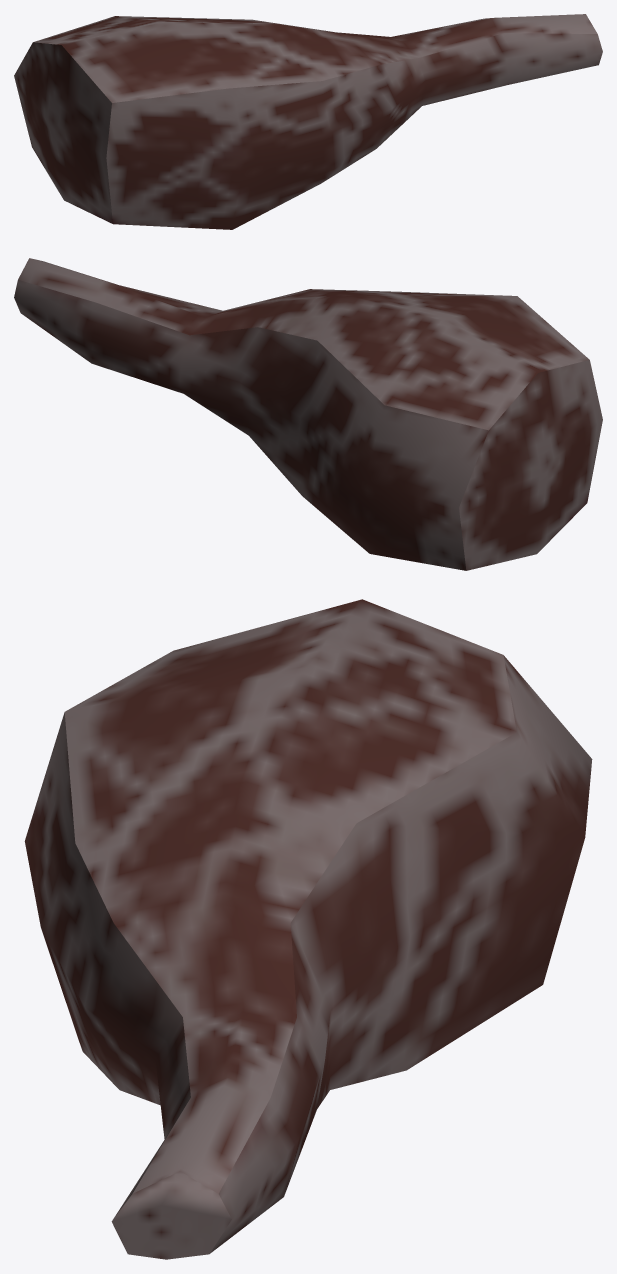
File: beefMeat.fbx
The picture shows the model from 3 angles, top to bottom: view 1: azimuth 30°, elevation 25°; view 2: azimuth 150°, elevation 25°; view 3: azimuth 270°, elevation 25°; orthographic projection. The views are drawn at different scales.
Parts seen in each view (by area): view 1: pCube70; view 2: pCube70; view 3: pCube70.
Part boxes in pixels (x1,y1,x2,y2): pCube70: (14,14,602,229); pCube70: (14,258,602,570); pCube70: (24,599,592,1259).
Bounding box in the file's own units: 213 × 73.69 × 107.
